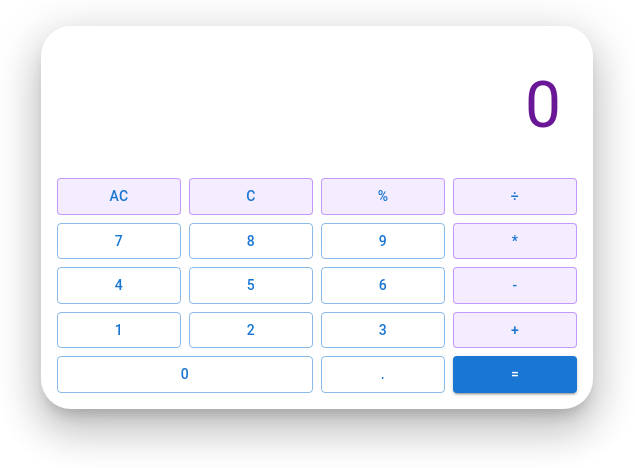
Test: calculator tests › Does multiply correctly
The width and height of the screenshot is (635, 468).
Click the button "1" at coordinates (119, 330), box [57,312,181,348]
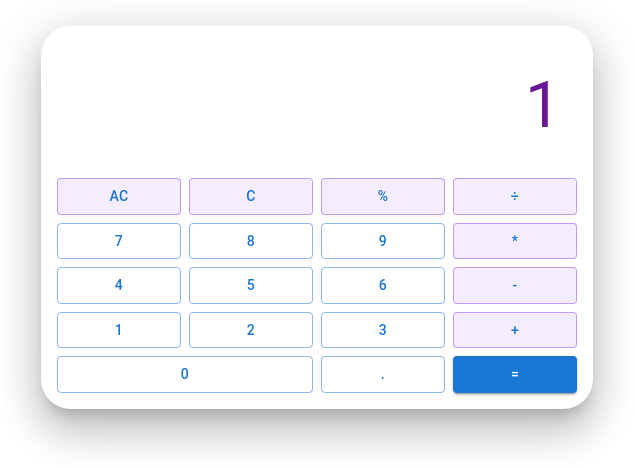
Click the button "0" at coordinates (185, 374), box [57,356,313,392]
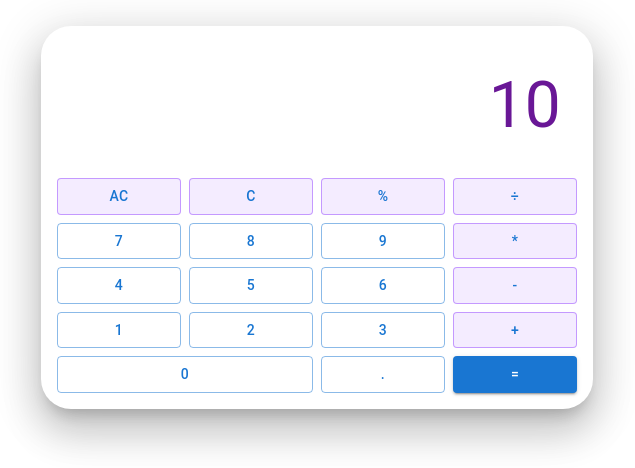
Click the button "*" at coordinates (515, 241), box [453,222,577,259]
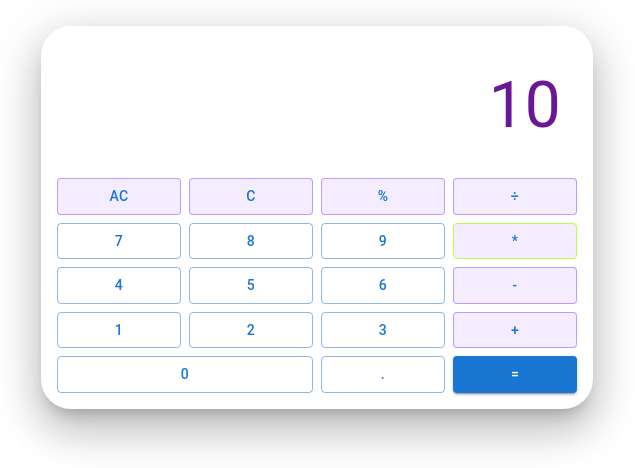
Click the button "5" at coordinates (251, 285), box [189,267,313,304]
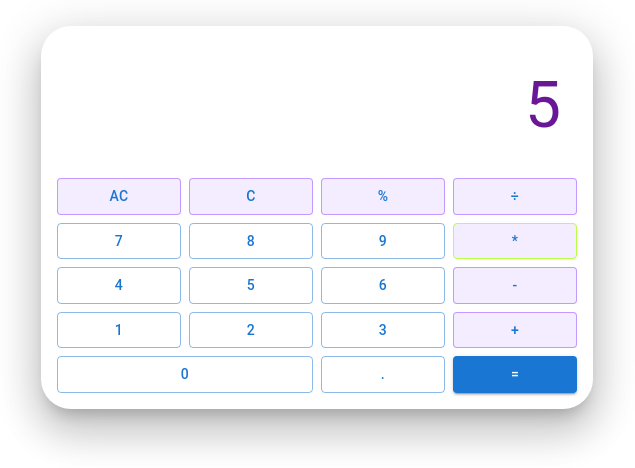
Click the button "=" at coordinates (515, 374), box [453,356,577,392]
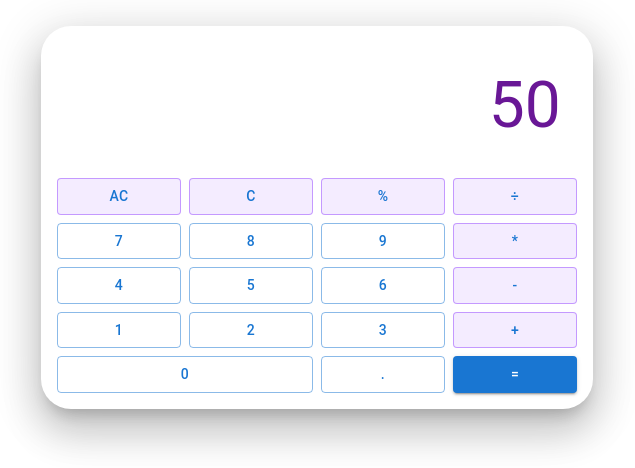
Check: the text with test id "output" reads "50", box [489,68,561,143]
